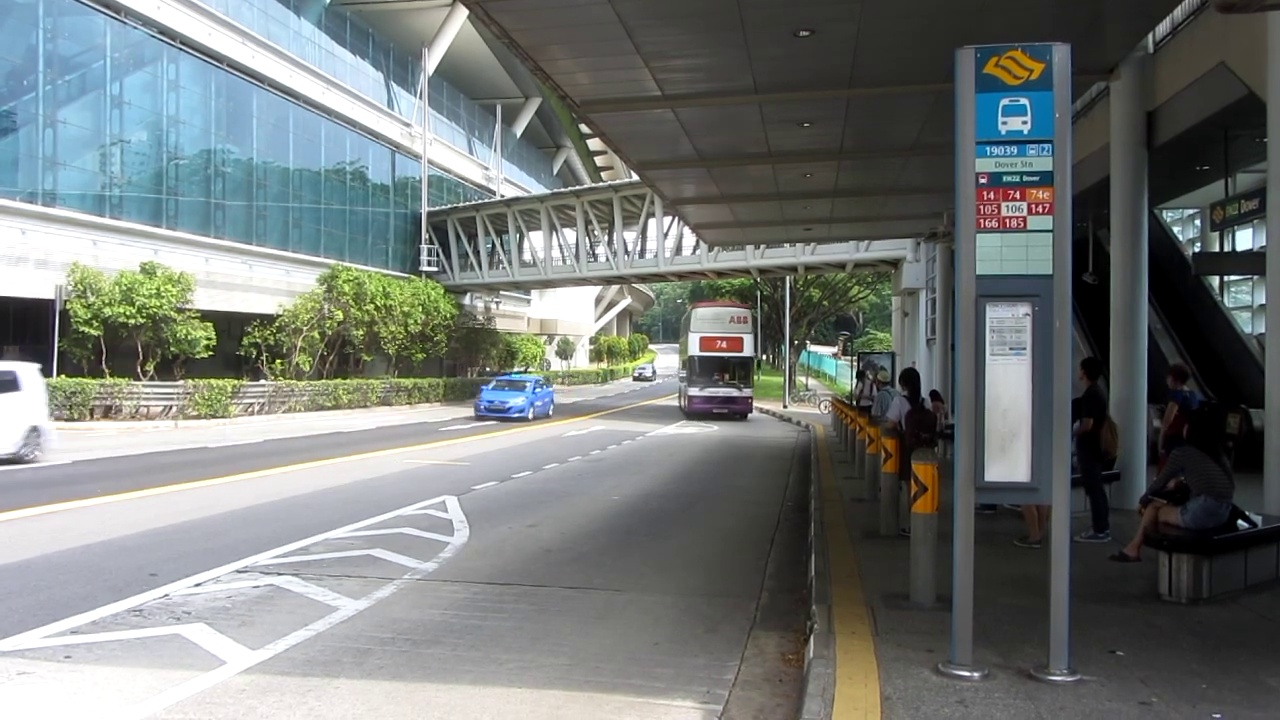bus panel: (699, 336, 745, 353)
